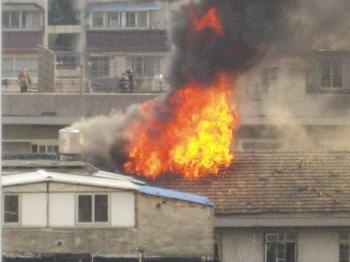fire: (122, 77, 240, 179)
